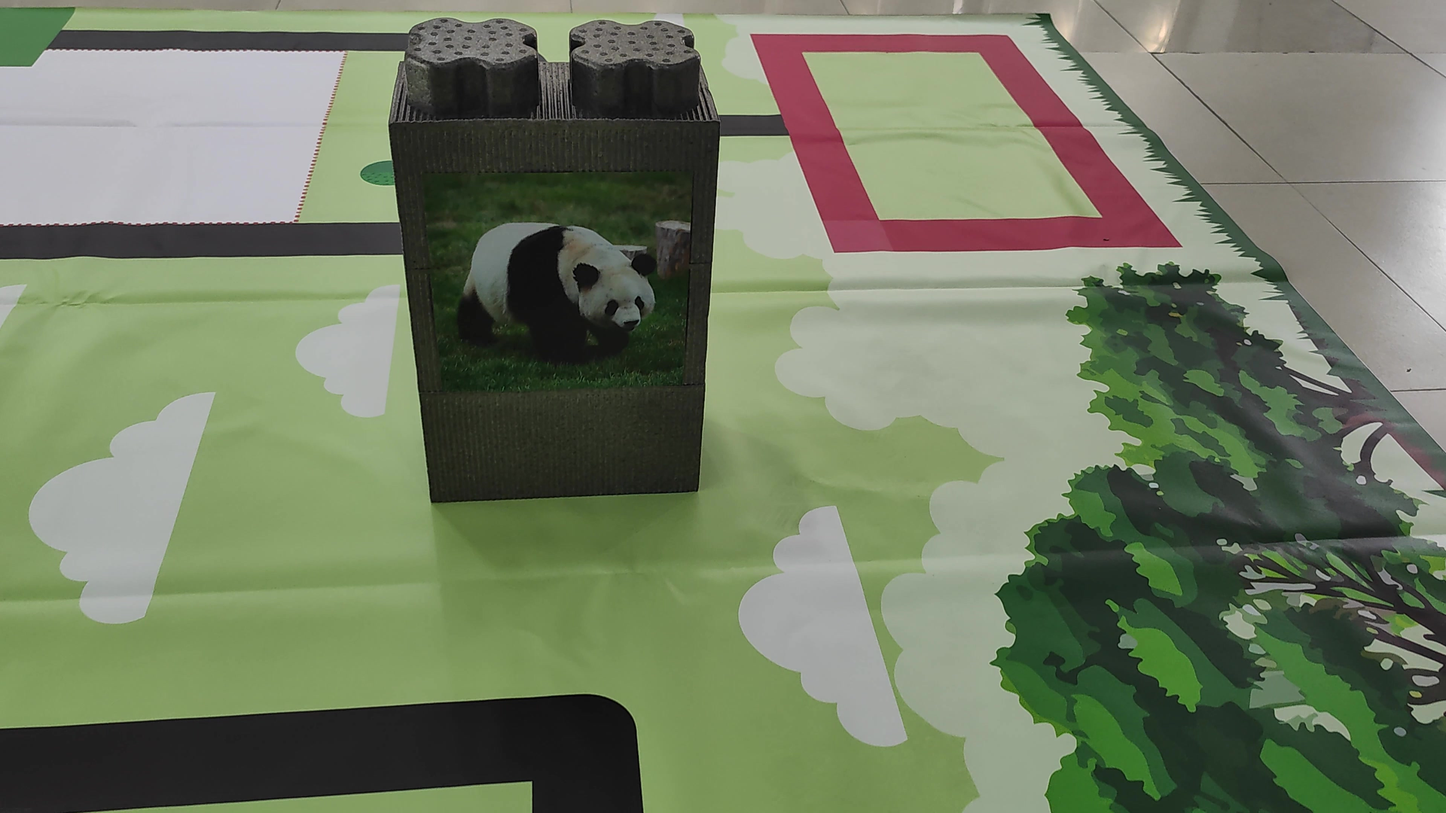panda: (435, 175, 690, 405)
